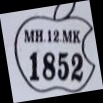character: (42, 51, 55, 80), (56, 51, 69, 80), (70, 52, 83, 81), (29, 50, 40, 81), (23, 28, 34, 42), (61, 28, 71, 43), (34, 28, 43, 43), (72, 29, 80, 43), (52, 28, 59, 42), (46, 28, 52, 43)
